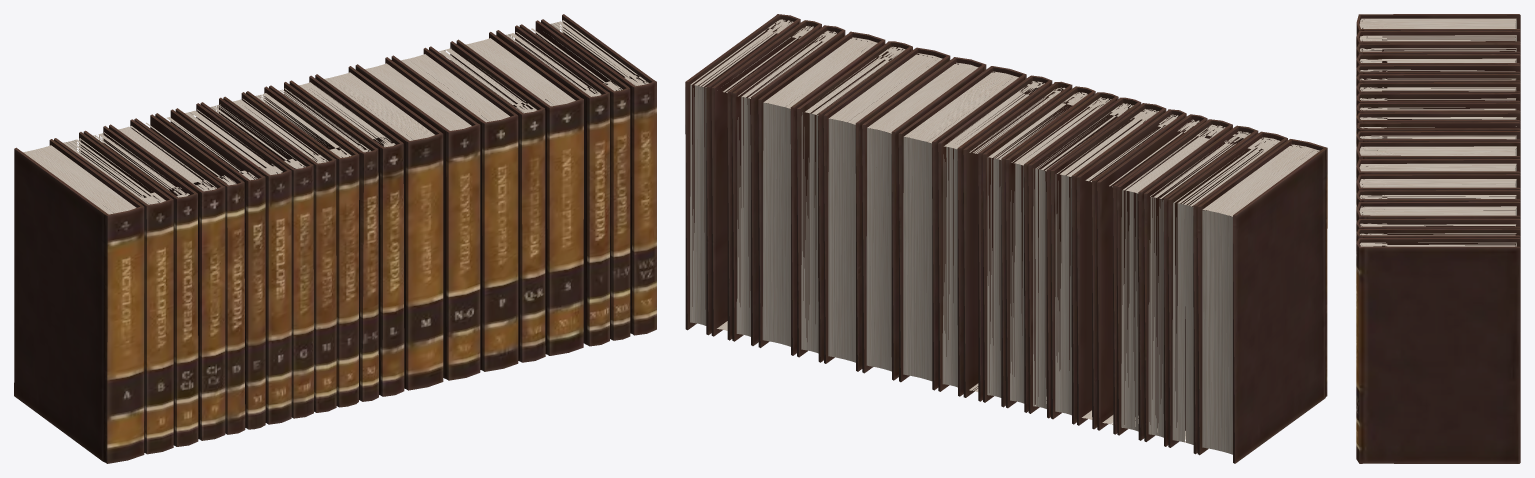
The model's file is books-set.glb.
3 renders of one model, left to right at view 1: azimuth 30°, elevation 25°; view 2: azimuth 150°, elevation 25°; view 3: azimuth 270°, elevation 25°, orthographic. The views are drawn at different scales.
Parts seen in each view (by area): view 1: books-set; view 2: books-set; view 3: books-set.
Boxes of the visible parts, <box> form: books-set: <box>14,14,656,463</box>; books-set: <box>685,14,1327,463</box>; books-set: <box>1356,14,1520,463</box>.
Size of the model in its own units: 0.5513 by 0.2374 by 0.1636.
2 materials, 2 textured.
